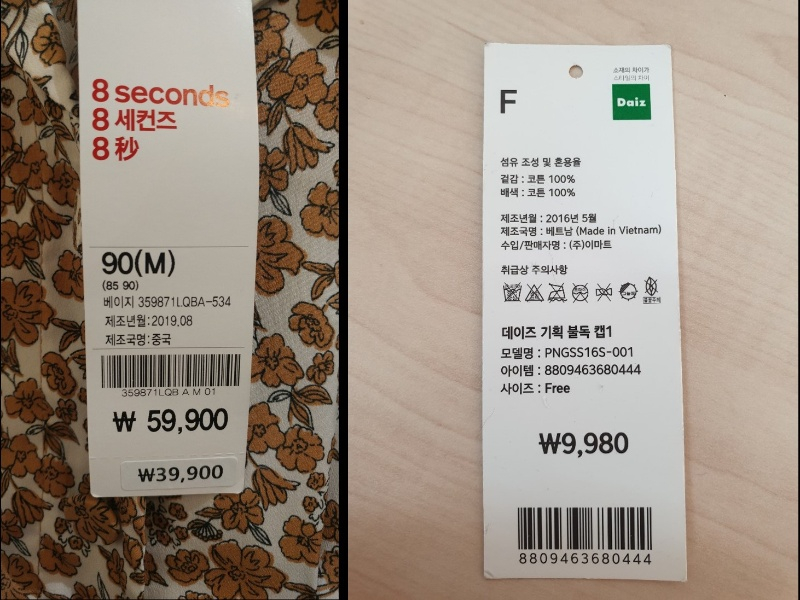tag: (481, 41, 689, 588), (78, 1, 251, 497)
text: (90, 74, 233, 110), (109, 405, 231, 437), (536, 429, 634, 459), (88, 103, 182, 134), (514, 551, 654, 569), (101, 292, 235, 310), (103, 247, 178, 278), (501, 223, 667, 237), (499, 323, 615, 341), (134, 461, 226, 482), (102, 312, 196, 331), (500, 238, 612, 253), (88, 132, 142, 163), (497, 210, 602, 225), (541, 344, 636, 360), (542, 362, 643, 376), (499, 169, 579, 186), (117, 386, 218, 399), (99, 331, 173, 348), (497, 184, 578, 199), (500, 261, 571, 278), (498, 154, 584, 168), (609, 63, 653, 84), (498, 344, 543, 362), (498, 379, 542, 397), (496, 364, 544, 380), (99, 276, 141, 293), (541, 380, 573, 395)
